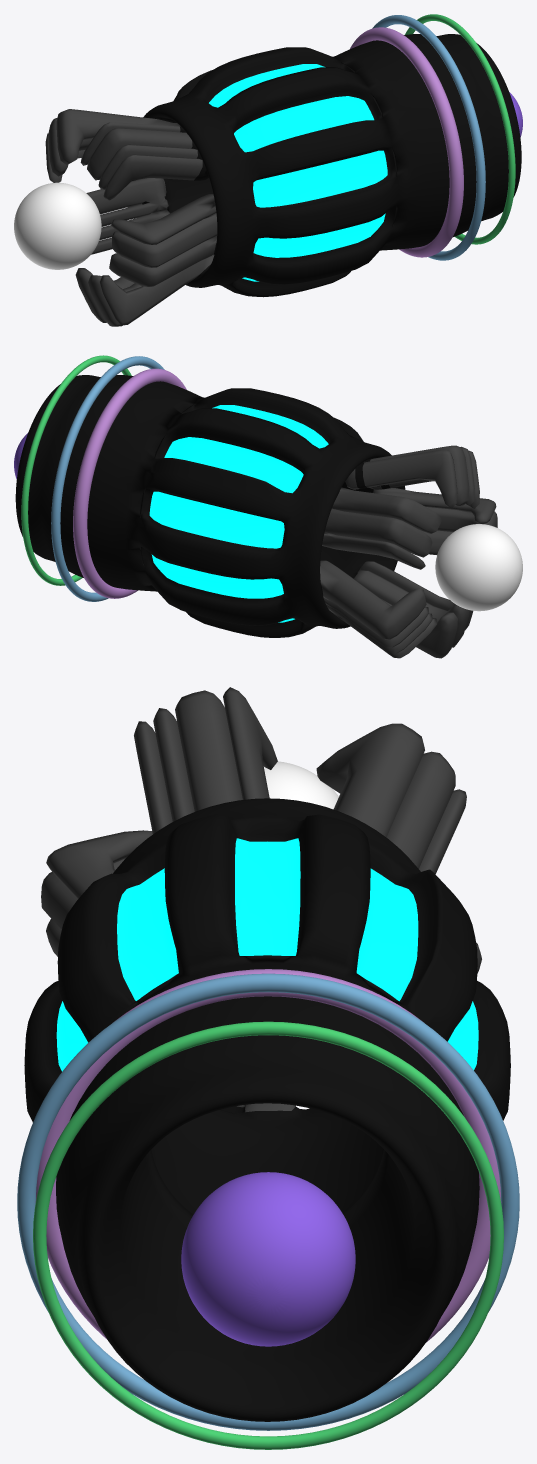
File: RocketCannonModel_2.fbx
The picture shows the model from 3 angles, top to bottom: view 1: azimuth 30°, elevation 25°; view 2: azimuth 150°, elevation 25°; view 3: azimuth 270°, elevation 25°; orthographic projection. The views are drawn at different scales.
Parts seen in each view (by area): view 1: Cylinder; view 2: Cylinder; view 3: Cylinder.
Part boxes in pixels (bbox=[...]): Cylinder: bbox=[14, 14, 522, 326]; Cylinder: bbox=[14, 355, 522, 658]; Cylinder: bbox=[17, 687, 519, 1449].
Bounding box in the file's own units: 65.13 × 28.49 × 28.49.
